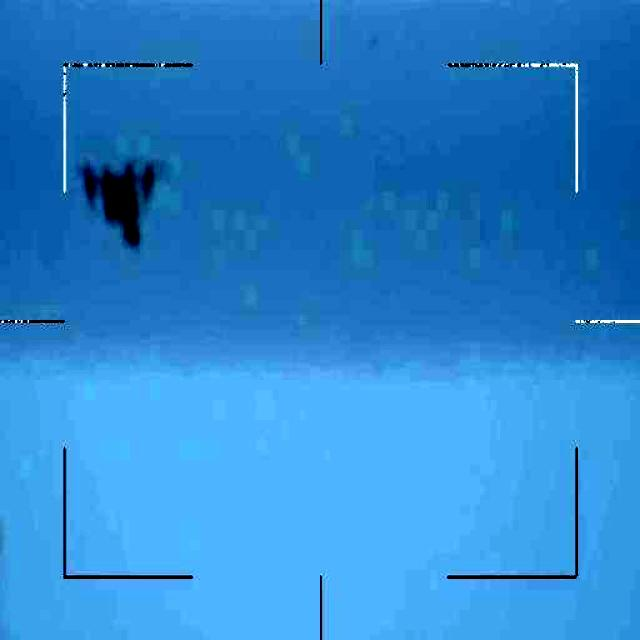bird: (79, 158, 161, 249)
